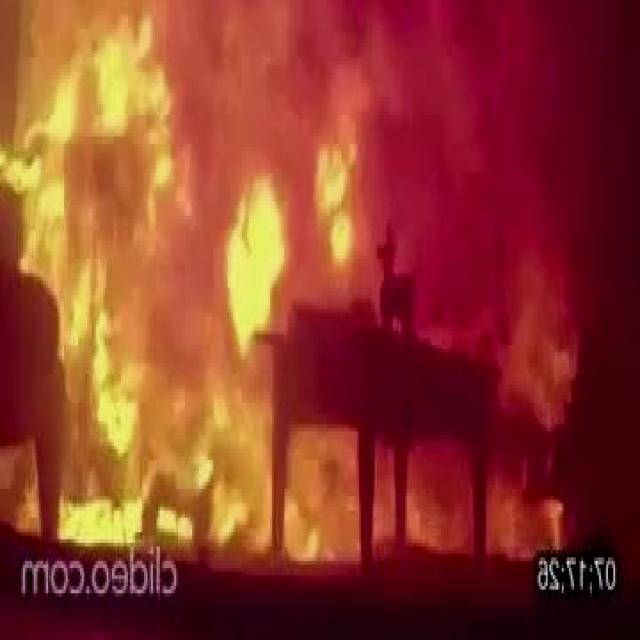fire: (0, 0, 557, 539)
